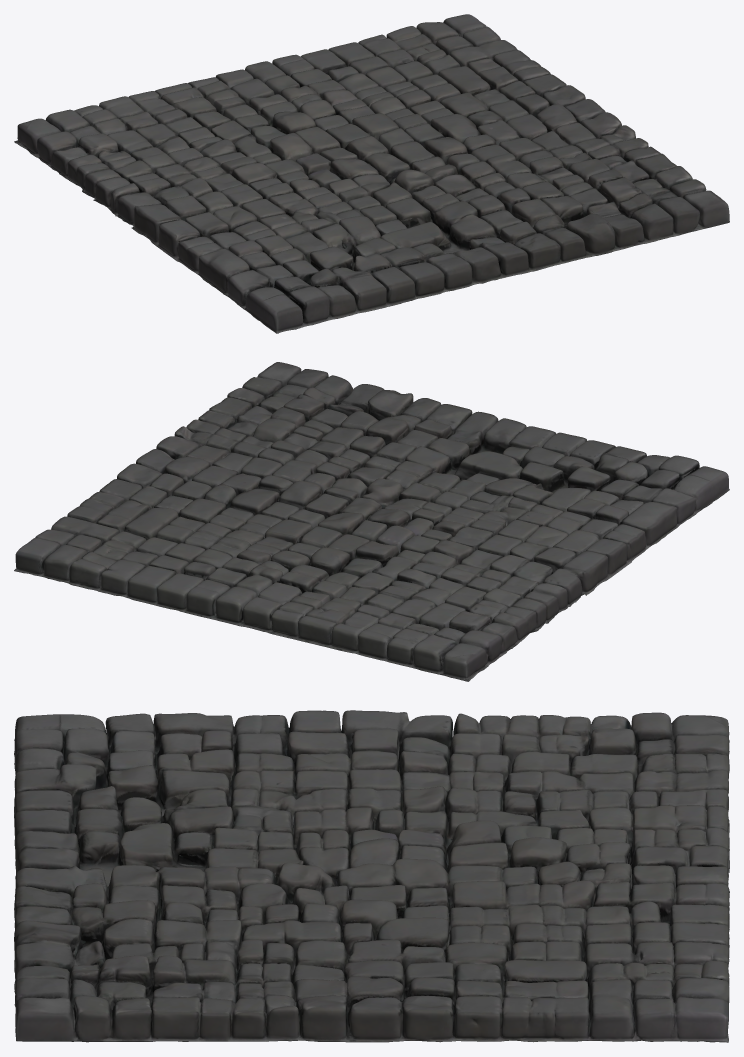
Rendered from rua_de_pedra_é_DKB.glb.
The picture shows the model from 3 angles, top to bottom: view 1: azimuth 30°, elevation 25°; view 2: azimuth 150°, elevation 25°; view 3: azimuth 270°, elevation 25°; orthographic projection. The views are drawn at different scales.
Size of the model in its own units: 2 by 0.1138 by 2.
1 material, 1 textured.
